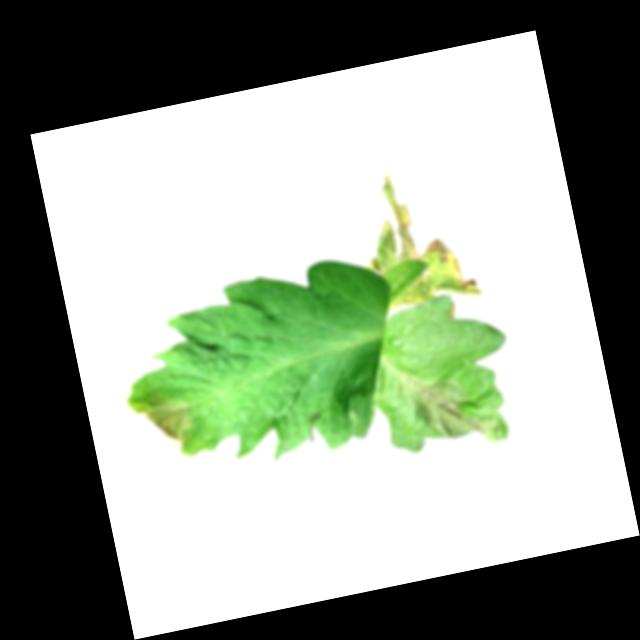Late_blight: (355, 161, 484, 318), (400, 361, 508, 459), (133, 393, 199, 456)
